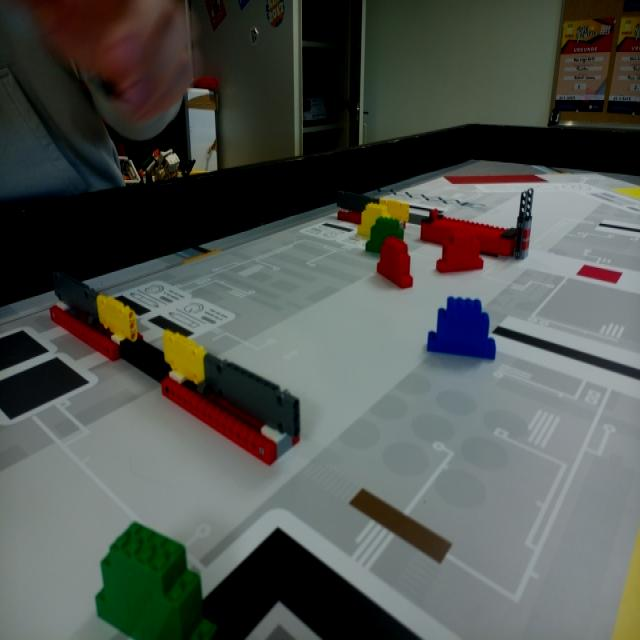blau: (428, 295, 496, 361)
gruen: (94, 523, 218, 640), (368, 221, 399, 253)
rot: (376, 240, 414, 290), (438, 231, 483, 271)
yellow: (360, 208, 383, 234)
